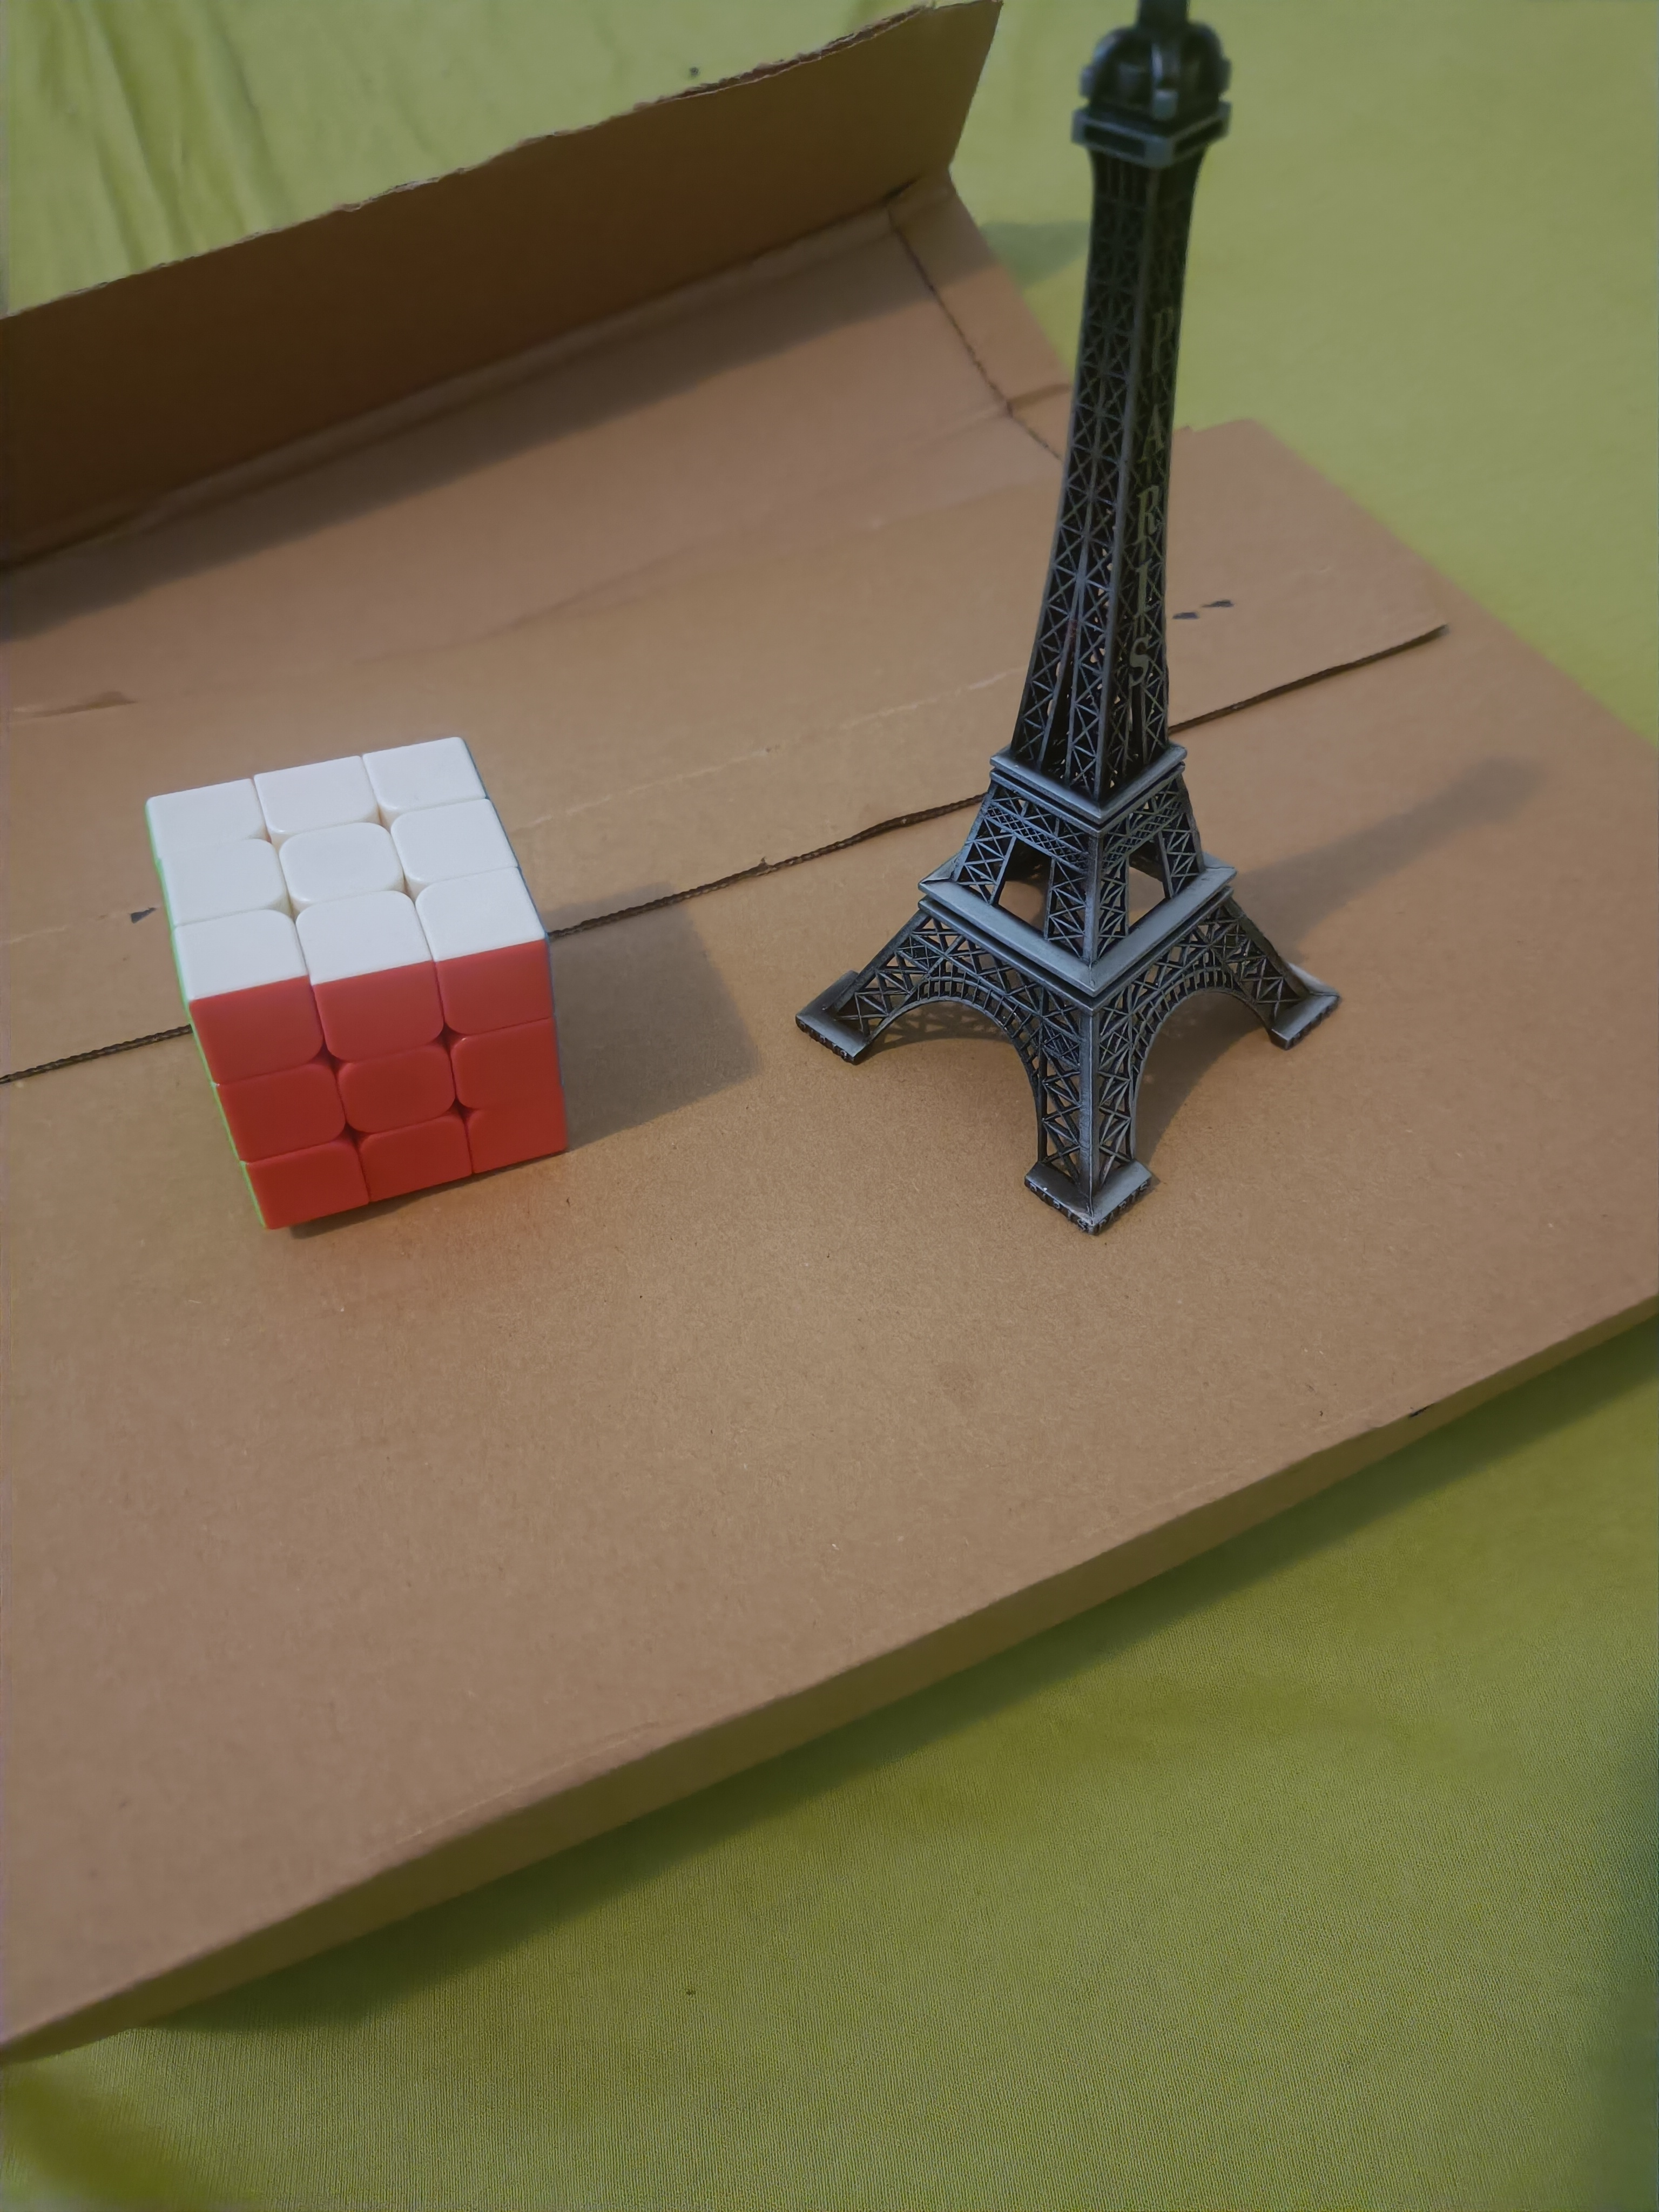Eiffel Tower: (791, 0, 1364, 1233)
Rubiks Cube: (115, 707, 587, 1254)
